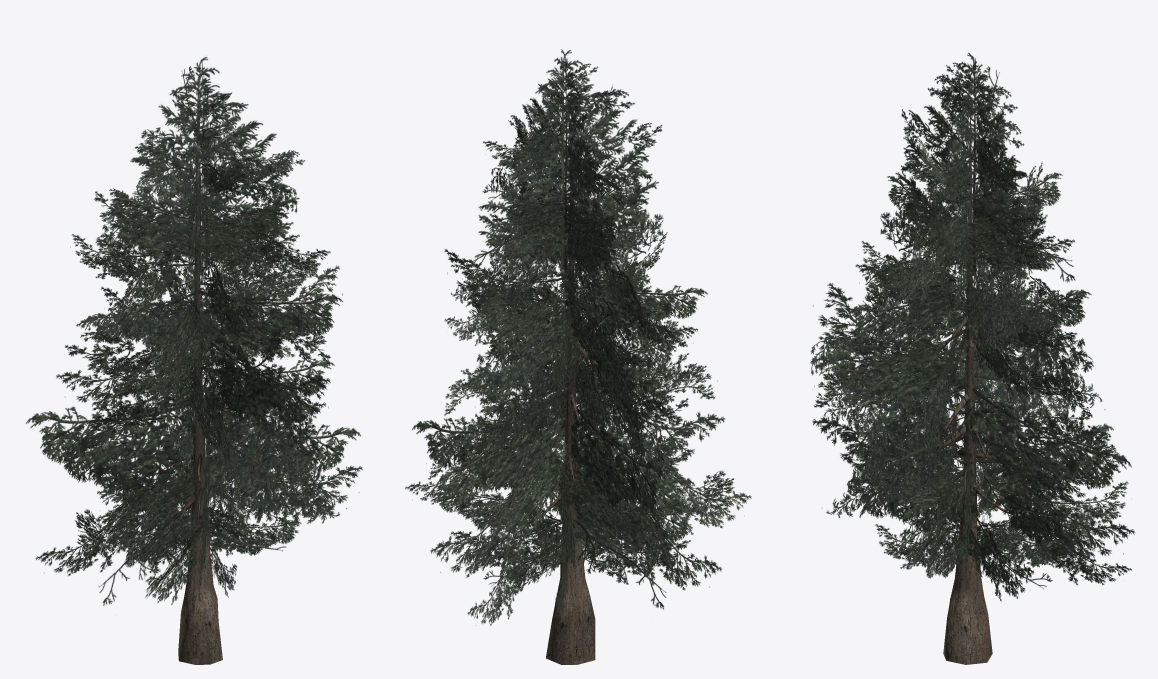
Rendered from tree10.glb.
The picture shows the model from 3 angles, left to right: view 1: azimuth 30°, elevation 25°; view 2: azimuth 150°, elevation 25°; view 3: azimuth 270°, elevation 25°; orthographic projection.
Parts seen in each view (by area): view 1: Tree_Branches_01.001_Tree_Branches_01_0, Tree_Trunk_01_Tree_Trunk_01_0; view 2: Tree_Branches_01.001_Tree_Branches_01_0, Tree_Trunk_01_Tree_Trunk_01_0; view 3: Tree_Branches_01.001_Tree_Branches_01_0, Tree_Trunk_01_Tree_Trunk_01_0.
Part boxes in pixels (bbox=[...]): Tree_Branches_01.001_Tree_Branches_01_0: bbox=[26, 57, 362, 605]; Tree_Trunk_01_Tree_Trunk_01_0: bbox=[162, 100, 247, 664]; Tree_Branches_01.001_Tree_Branches_01_0: bbox=[405, 49, 751, 625]; Tree_Trunk_01_Tree_Trunk_01_0: bbox=[537, 98, 612, 664]; Tree_Branches_01.001_Tree_Branches_01_0: bbox=[810, 52, 1134, 601]; Tree_Trunk_01_Tree_Trunk_01_0: bbox=[926, 115, 1010, 664].
Bounding box in the file's own units: 5.91 × 10.17 × 5.46.
2 materials, 2 textured.
